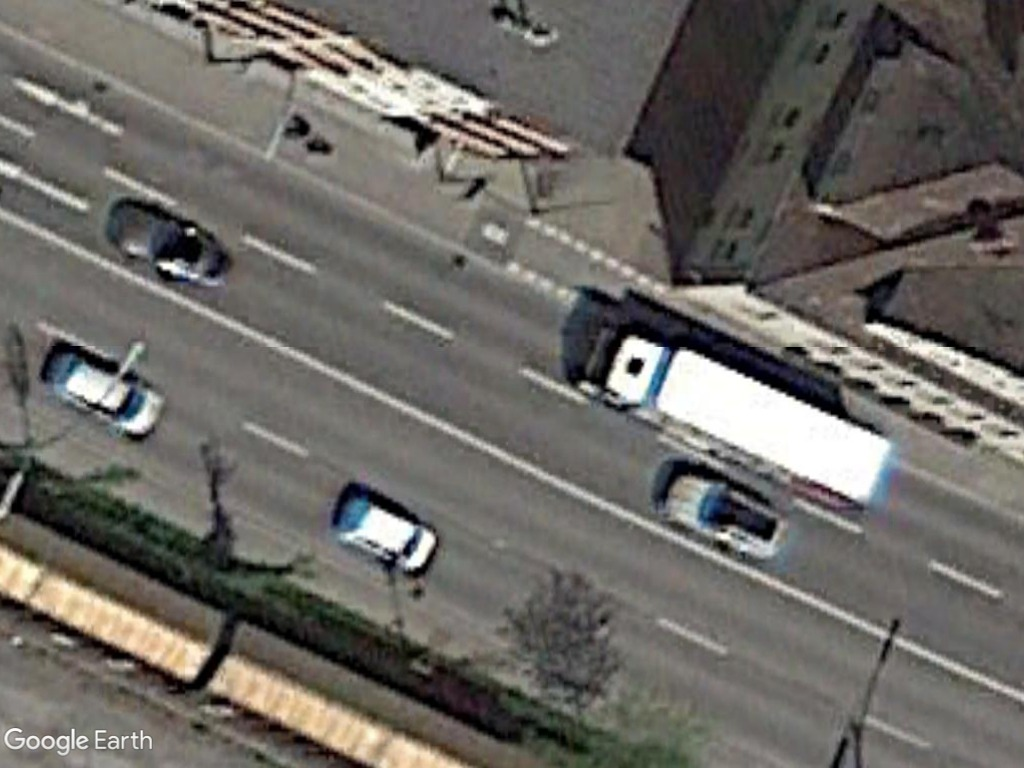car: (41, 344, 176, 448), (338, 492, 442, 572)
truck: (583, 318, 902, 512)
